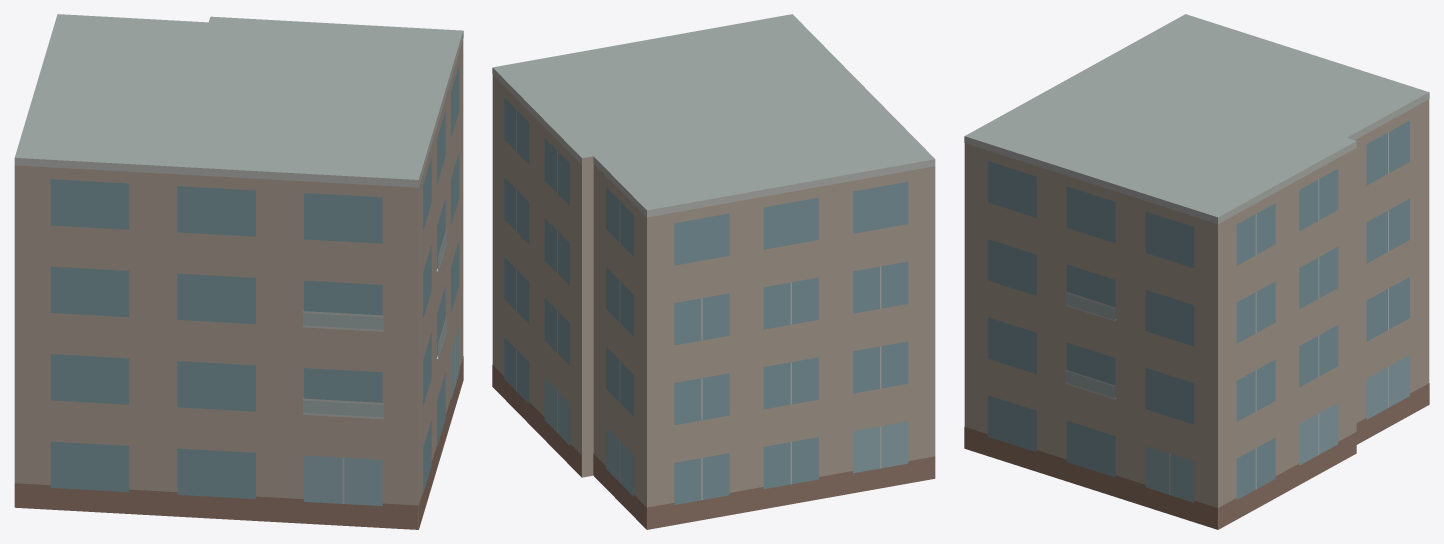
Rendered from survey-upis-32663156.glb.
The picture shows the model from 3 angles, left to right: view 1: azimuth 30°, elevation 25°; view 2: azimuth 150°, elevation 25°; view 3: azimuth 270°, elevation 25°; orthographic projection. The views are drawn at different scales.
Visible parts, largest first — view 1: survey-upis-32663156.tmp; view 2: survey-upis-32663156.tmp; view 3: survey-upis-32663156.tmp.
Part boxes in pixels (box(x1,y1,x2,y2)): survey-upis-32663156.tmp: box(14, 14, 463, 529); survey-upis-32663156.tmp: box(492, 14, 935, 529); survey-upis-32663156.tmp: box(964, 14, 1429, 529).
Bounding box in the file's own units: 15.65 × 11.2 × 15.12.
